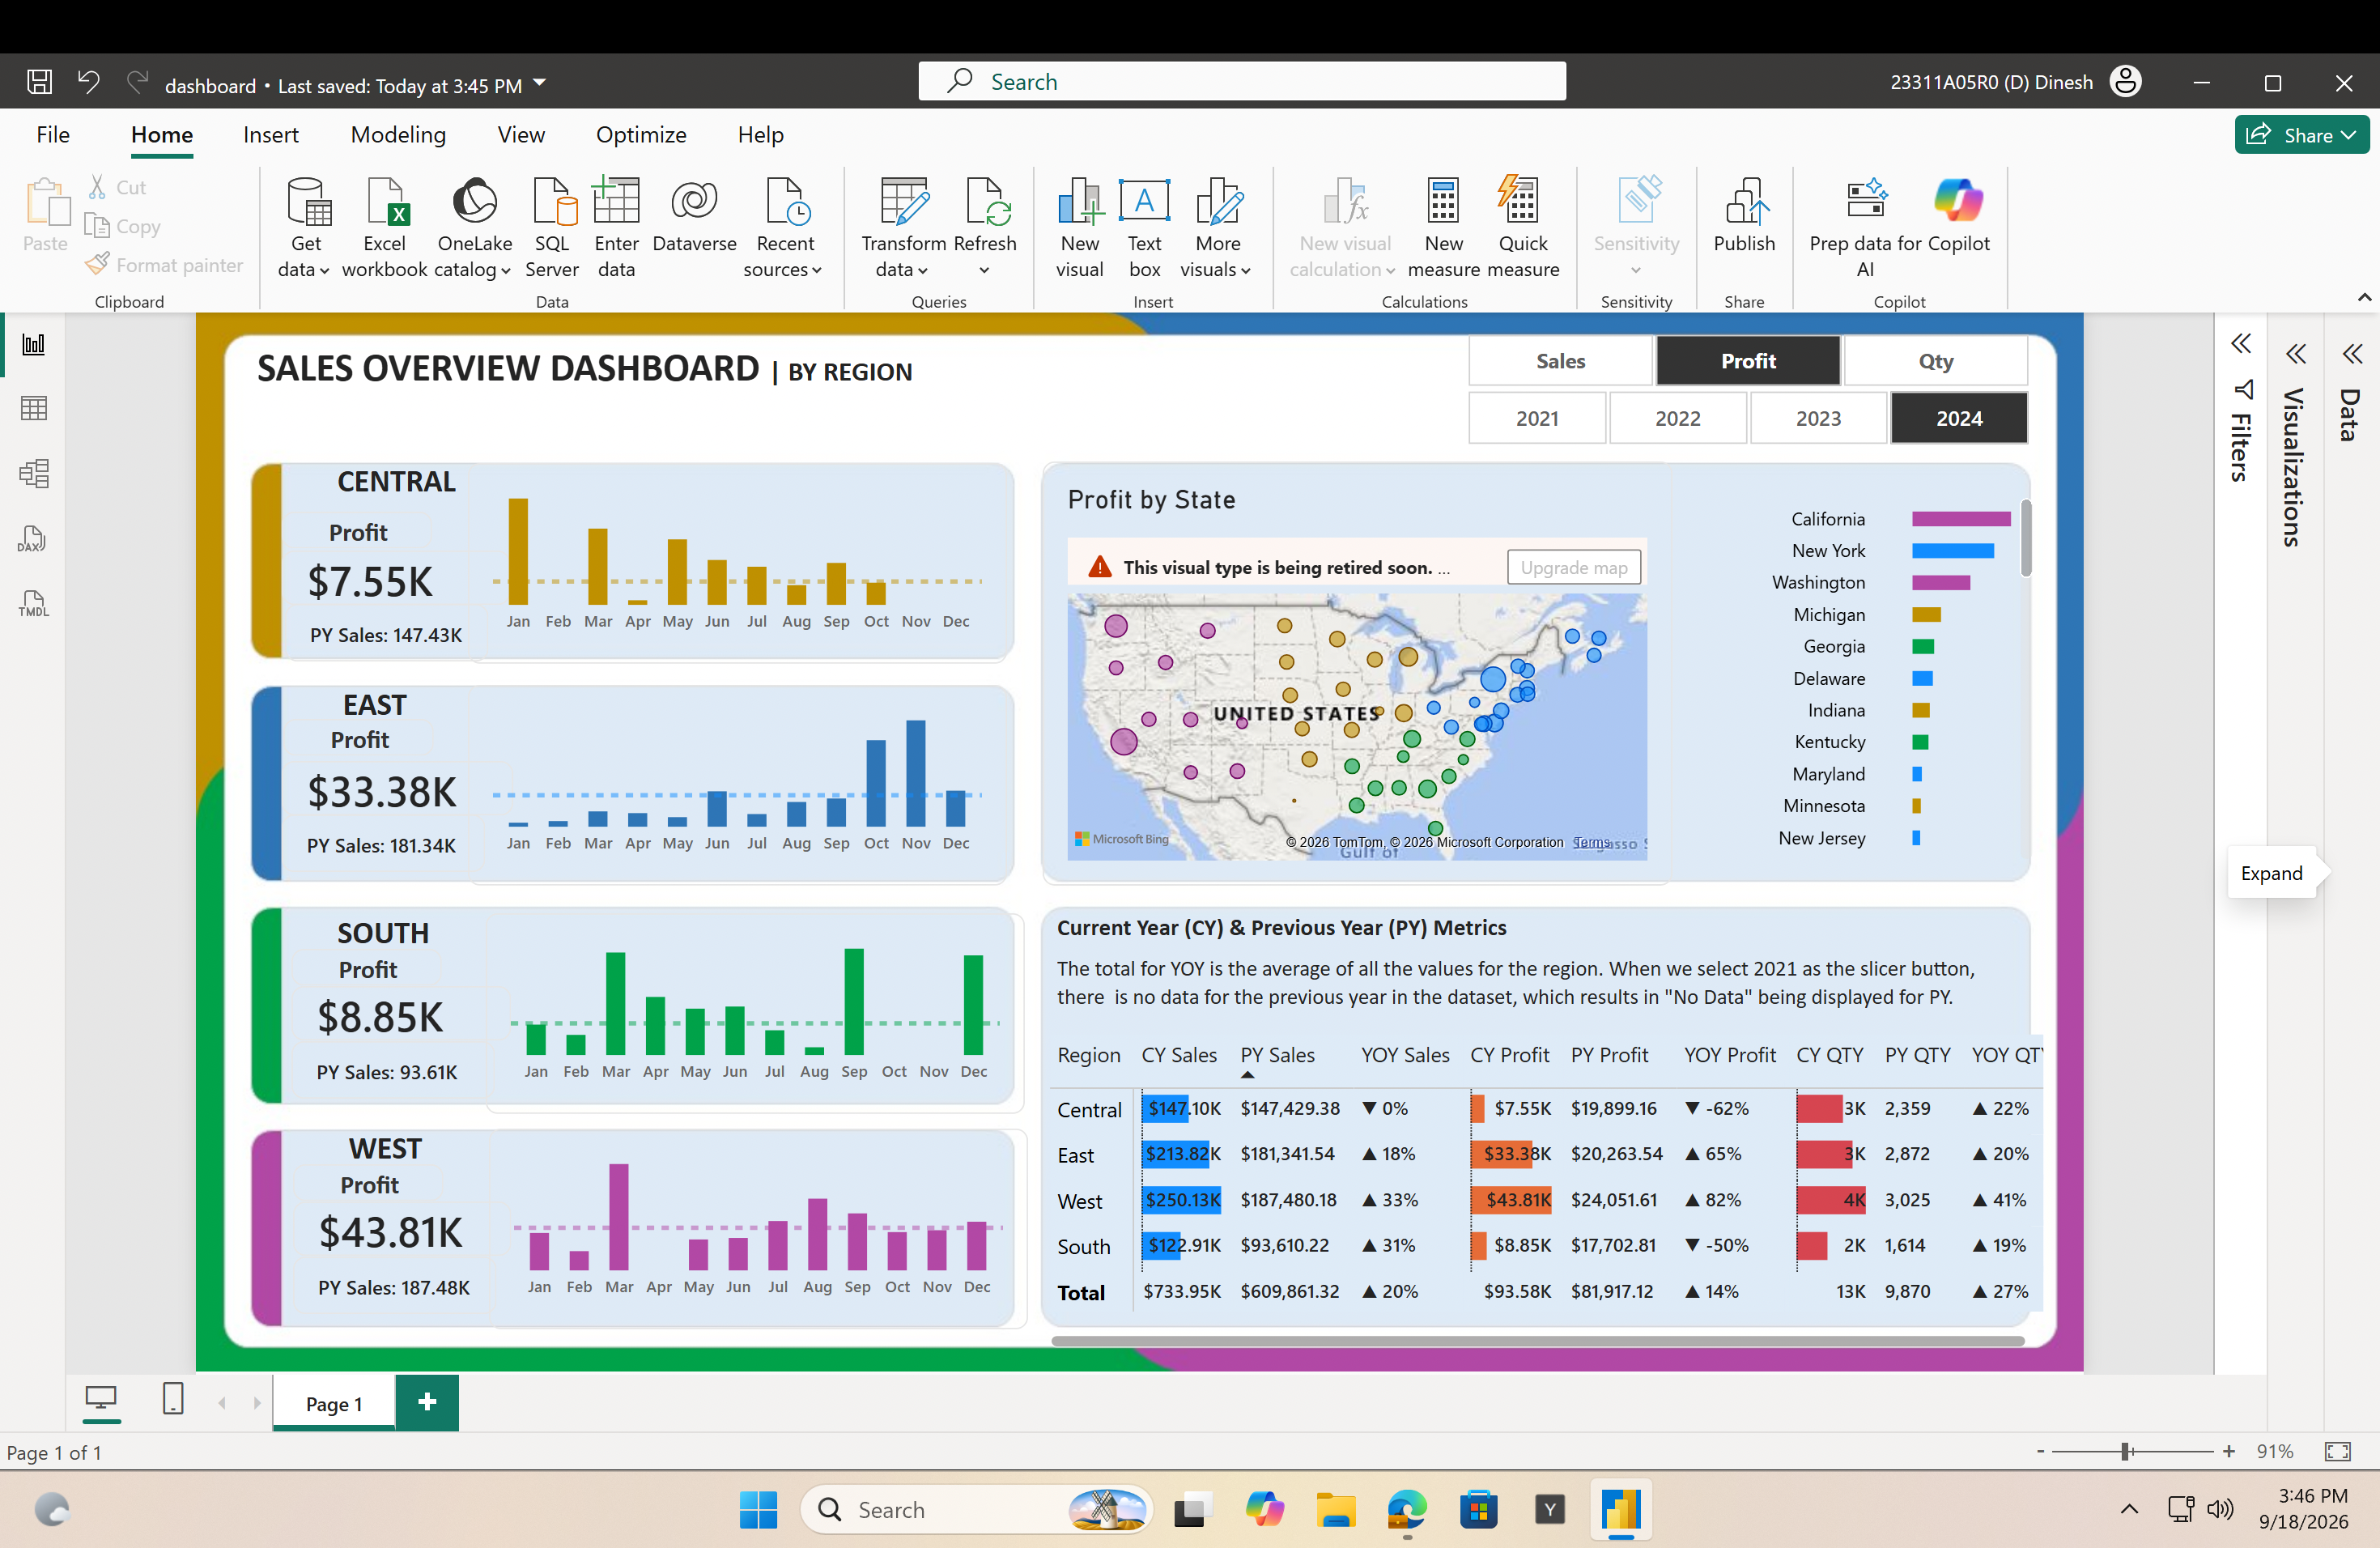

The page's visual inventory and layout, read from the dashboard file:
{"tool":"powerbi","page":{"name":"Page 1","canvas":[1280,720],"ordinal":0},"visuals":[{"type":"slicer","fields":{"Values":["Select Metric.Select Metric"]},"box":[841.8,13.6,419.7,38.4],"z":0},{"type":"cardVisual","fields":{"Data":["Sales Data.Total Qty"]},"box":[58.2,160.9,156,37.1],"z":1000},{"type":"textbox","box":[73,101.5,125,47],"z":2000},{"type":"slicer","fields":{"Values":["Calender Table.Year"]},"box":[841.8,52,419.7,39.6],"z":3000},{"type":"cardVisual","fields":{"Data":["Sales Data.Dynamic Title"]},"box":[58.2,134.9,102.7,26],"z":4000},{"type":"cardVisual","fields":{"Data":["Sales Data.PY KPI Sales"]},"box":[60.7,198.1,138.6,39.6],"z":5000},{"type":"clusteredColumnChart","fields":{"Category":["Calender Table.Month"],"Y":["Sales Data.Total Qty"]},"box":[184.4,102.1,365.5,136.1],"z":6000},{"type":"textbox","box":[19.8,20.9,488.4,39.5],"z":7000},{"type":"cardVisual","fields":{"Data":["Sales Data.Total Qty"]},"box":[58.2,304.5,157.2,37.1],"z":8000},{"type":"textbox","box":[58.2,252.5,126.3,35.9],"z":9000},{"type":"cardVisual","fields":{"Data":["Sales Data.Dynamic Title"]},"box":[59.7,275.9,102.7,26],"z":10000},{"type":"cardVisual","fields":{"Data":["Sales Data.PY KPI Sales"]},"box":[58.2,340.2,138.6,39.6],"z":11000},{"type":"clusteredColumnChart","fields":{"Category":["Calender Table.Month"],"Y":["Sales Data.Total Qty"]},"box":[184.4,252.4,365.5,136.1],"z":12000},{"type":"cardVisual","fields":{"Data":["Sales Data.Total Qty"]},"box":[64.4,456.8,149.8,37.1],"z":13000},{"type":"textbox","box":[64.4,407.3,125,37.1],"z":14000},{"type":"cardVisual","fields":{"Data":["Sales Data.Dynamic Title"]},"box":[64.4,430.8,102.7,26],"z":15000},{"type":"cardVisual","fields":{"Data":["Sales Data.PY KPI Sales"]},"box":[64.4,493.9,138.6,39.6],"z":16000},{"type":"clusteredColumnChart","fields":{"Category":["Calender Table.Month"],"Y":["Sales Data.Total Qty"]},"box":[196.8,407.3,365.5,136.1],"z":17000},{"type":"cardVisual","fields":{"Data":["Sales Data.Total Qty"]},"box":[65.6,602.9,148.5,37.1],"z":18000},{"type":"textbox","box":[65.7,553.4,125,37.1],"z":19000},{"type":"cardVisual","fields":{"Data":["Sales Data.Dynamic Title"]},"box":[65.7,577,102.7,26],"z":20000},{"type":"cardVisual","fields":{"Data":["Sales Data.PY KPI Sales"]},"box":[65.7,640.1,138.6,39.6],"z":21000},{"type":"clusteredColumnChart","fields":{"Category":["Calender Table.Month"],"Y":["Sales Data.Total Qty"]},"box":[198.2,553.4,365.5,136.1],"z":22000},{"type":"map","fields":{"Category":["Sales Data.State/Province"],"Series":["Sales Data.Region"],"Size":["Sales Data.Dynamic Metric"]},"box":[574,101,427,287.6],"z":23000},{"type":"barChart","fields":{"Category":["Sales Data.State/Province"],"Series":["Sales Data.Region"],"Y":["Sales Data.Total Qty"]},"box":[1001.5,104,260,282.2],"z":24000},{"type":"pivotTable","fields":{"Rows":["Sales Data.Region"],"Values":["Sales Data.CY Sales","Sales Data.PY Sales Display","Sales Data.YOY Sales","Sales Data.CY Profit","Sales Data.PY Profit Display","Sales Data.YOY Profit","Sales Data.CY QTY","Sales Data.PY QTY Display","Sales Data.YOY QTY"]},"box":[563.2,475.4,705.6,242.6],"z":25000},{"type":"textbox","box":[584.3,407.3,501.4,37.1],"z":26000},{"type":"textbox","box":[584.3,434.5,647.4,43.3],"z":27000}]}

Visuals, with their boxes on the page's 1280x720 design canvas (x1, y1, x2, y2). These are canvas units, not pixel positions in the 2380x1548 screenshot, which may show the page scaled, cropped or inside an application window:
slicer - Select Metric.Select Metric: x1=842 y1=14 x2=1262 y2=52
cardVisual - Sales Data.Total Qty: x1=58 y1=161 x2=214 y2=198
textbox: x1=73 y1=102 x2=198 y2=148
slicer - Calender Table.Year: x1=842 y1=52 x2=1262 y2=92
cardVisual - Sales Data.Dynamic Title: x1=58 y1=135 x2=161 y2=161
cardVisual - Sales Data.PY KPI Sales: x1=61 y1=198 x2=199 y2=238
clusteredColumnChart - Calender Table.Month x Sales Data.Total Qty: x1=184 y1=102 x2=550 y2=238
textbox: x1=20 y1=21 x2=508 y2=60
cardVisual - Sales Data.Total Qty: x1=58 y1=304 x2=215 y2=342
textbox: x1=58 y1=252 x2=184 y2=288
cardVisual - Sales Data.Dynamic Title: x1=60 y1=276 x2=162 y2=302
cardVisual - Sales Data.PY KPI Sales: x1=58 y1=340 x2=197 y2=380
clusteredColumnChart - Calender Table.Month x Sales Data.Total Qty: x1=184 y1=252 x2=550 y2=388
cardVisual - Sales Data.Total Qty: x1=64 y1=457 x2=214 y2=494
textbox: x1=64 y1=407 x2=189 y2=444
cardVisual - Sales Data.Dynamic Title: x1=64 y1=431 x2=167 y2=457
cardVisual - Sales Data.PY KPI Sales: x1=64 y1=494 x2=203 y2=534
clusteredColumnChart - Calender Table.Month x Sales Data.Total Qty: x1=197 y1=407 x2=562 y2=543
cardVisual - Sales Data.Total Qty: x1=66 y1=603 x2=214 y2=640
textbox: x1=66 y1=553 x2=191 y2=590
cardVisual - Sales Data.Dynamic Title: x1=66 y1=577 x2=168 y2=603
cardVisual - Sales Data.PY KPI Sales: x1=66 y1=640 x2=204 y2=680
clusteredColumnChart - Calender Table.Month x Sales Data.Total Qty: x1=198 y1=553 x2=564 y2=690
map - Sales Data.State/Province x Sales Data.Region: x1=574 y1=101 x2=1001 y2=389
barChart - Sales Data.State/Province x Sales Data.Region: x1=1002 y1=104 x2=1262 y2=386
pivotTable - Sales Data.Region x Sales Data.CY Sales: x1=563 y1=475 x2=1269 y2=718
textbox: x1=584 y1=407 x2=1086 y2=444
textbox: x1=584 y1=434 x2=1232 y2=478
